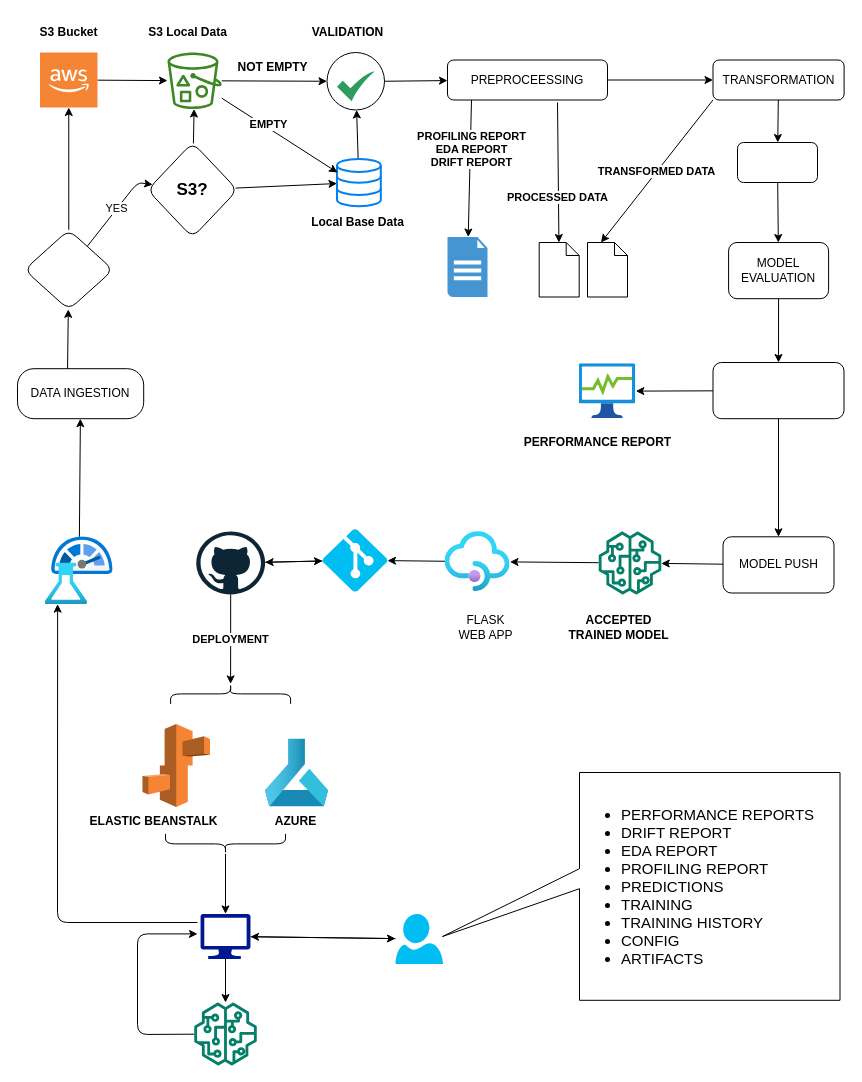
Some shapes in this 862 by 1082 pixel diagram are drawn without their labels. The shapes that lost their labels are listed below. From the top down, each one's centre as x and y in pixels, then its label:
At (x=777, y=162): "TRAINER".
At (x=68, y=269): "Error ?".
At (x=778, y=390): "PERFORMANCE EVALUATION".
